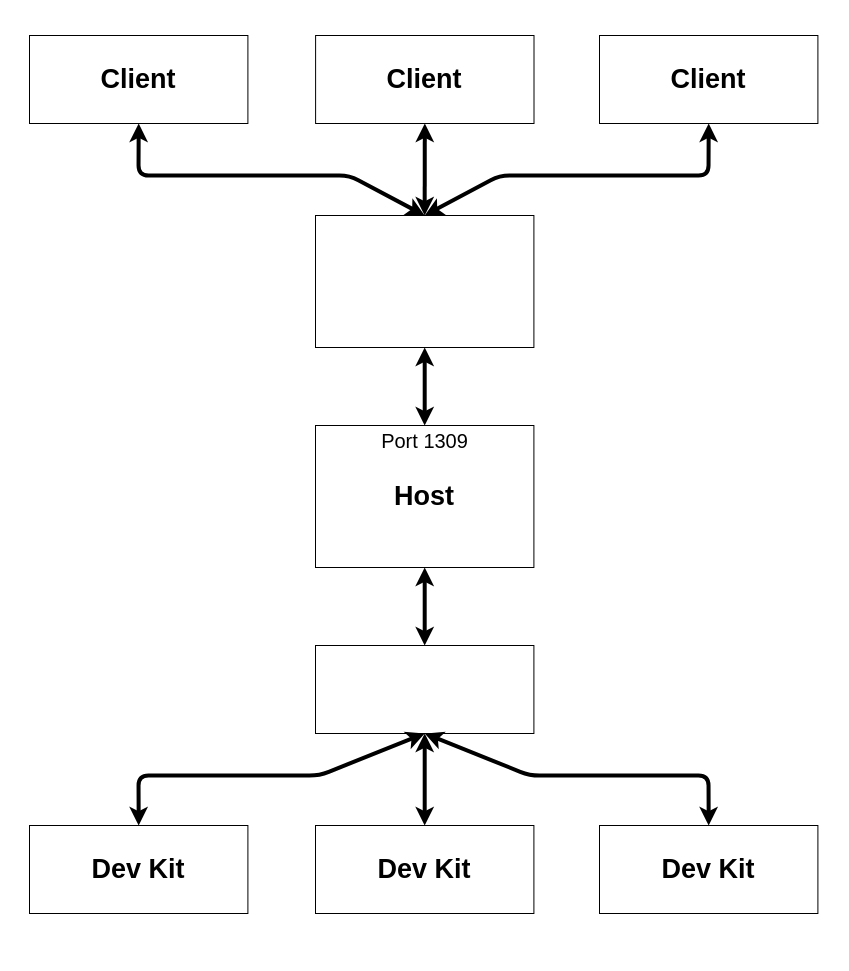
The diagram is 849 pixels wide and 971 high, and some of its shapes have lost their labels. Each missing label, with the centre of its shape:
Optional Network Interface: the point at 424,281
USB Port Replicator: the point at 424,689
